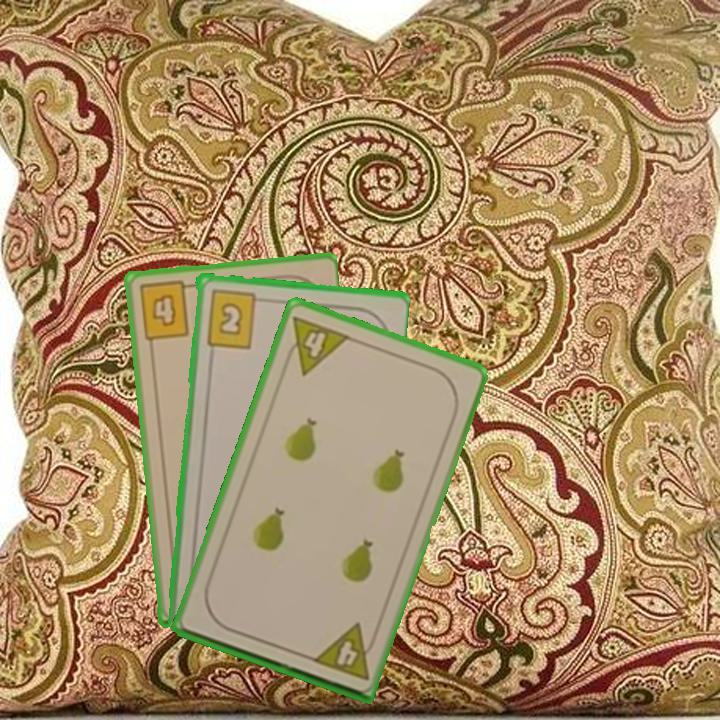2b: (202, 286, 268, 350)
4b: (135, 278, 198, 343)
4p: (278, 312, 353, 378), (308, 619, 381, 683)
